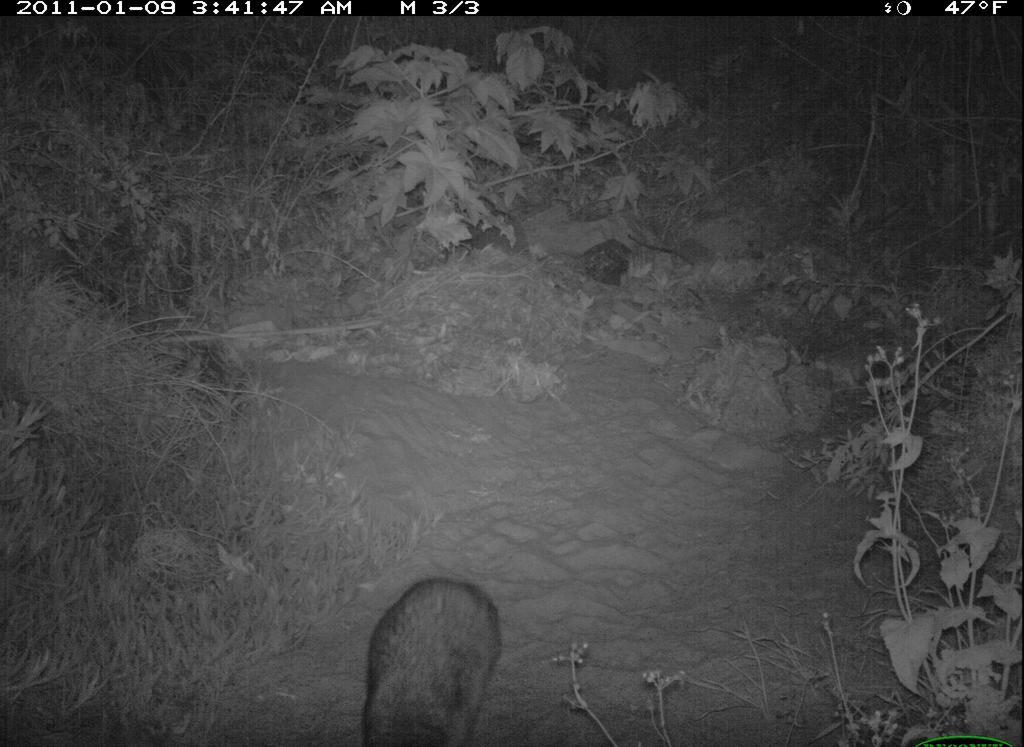raccoon: (332, 551, 528, 745)
